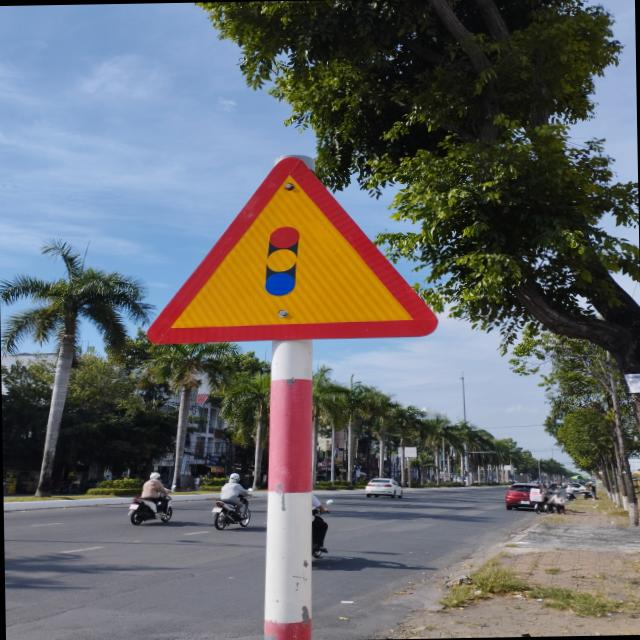Duong_Co_Go_Giam_Toc: (144, 154, 436, 342)
